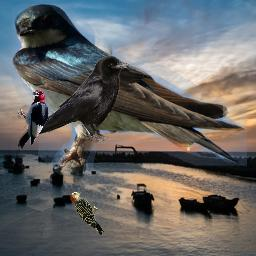Crow: (26, 55, 132, 141)
Swallow: (12, 4, 247, 175)
Woodpecker: (15, 86, 49, 153), (69, 190, 104, 236)
